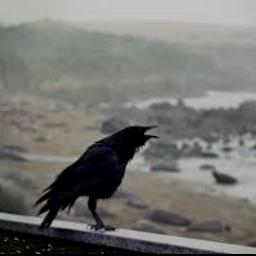Crow: (32, 123, 160, 233)
